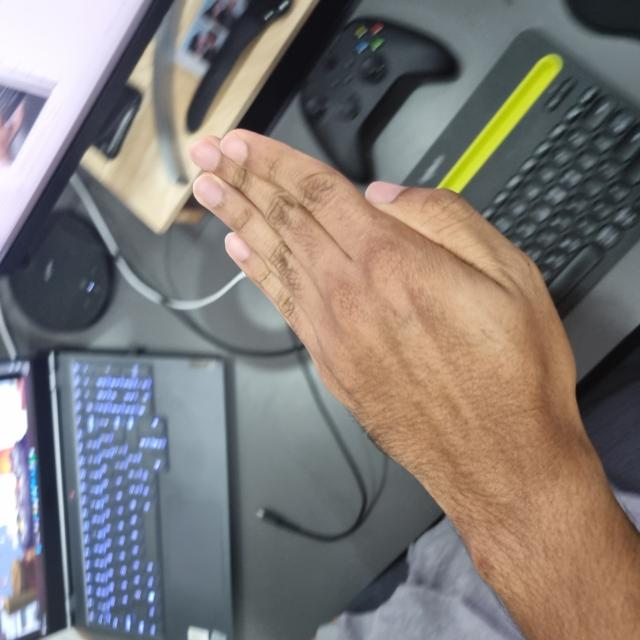Paper: (127, 191, 512, 580)
